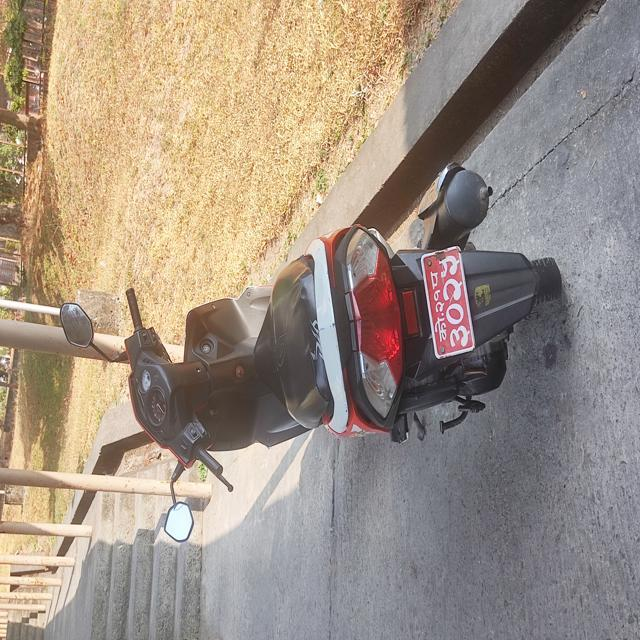license_plate: (418, 238, 487, 366)
